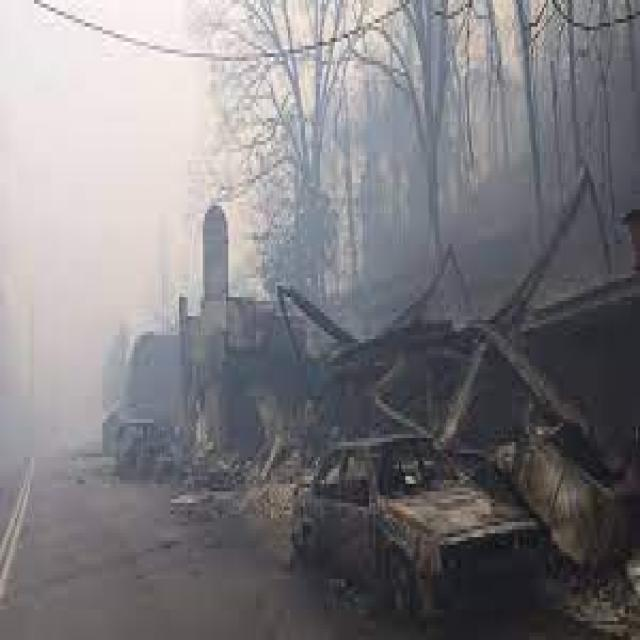Forest Fire: (85, 129, 590, 619)
